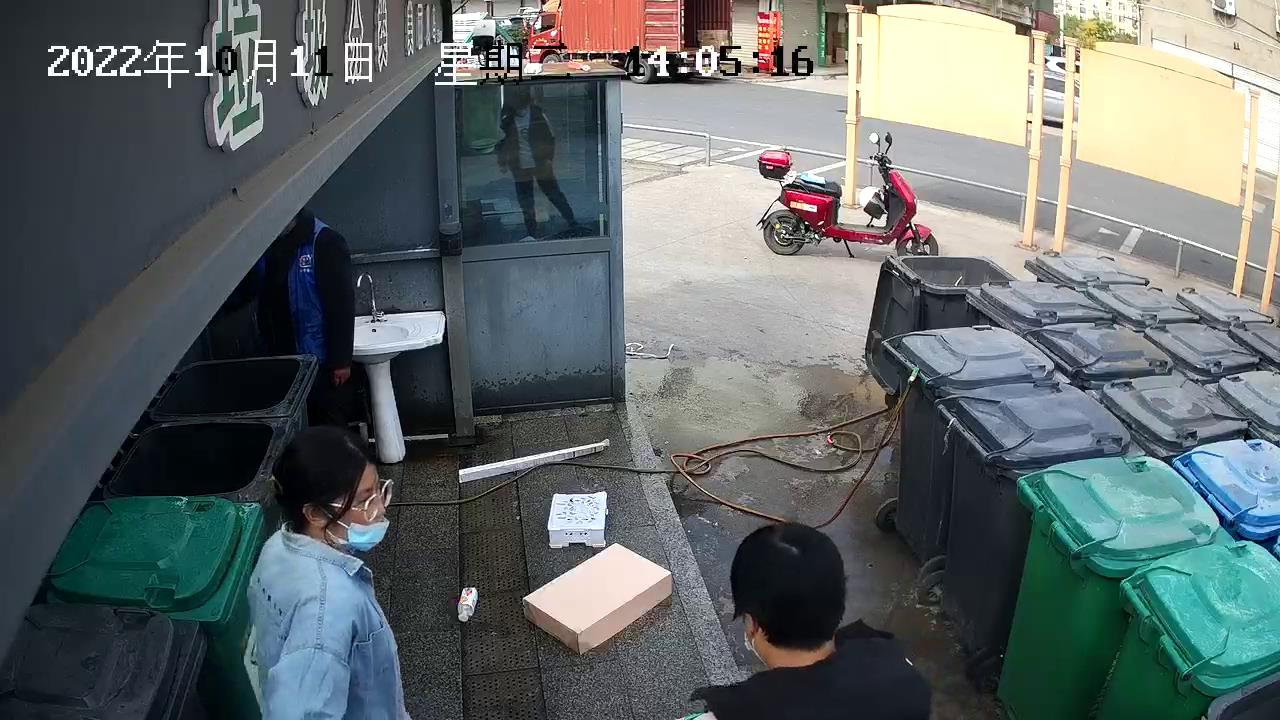person: (670, 521, 935, 720)
suliaozhipin: (544, 488, 610, 548), (454, 582, 478, 623)
worker: (243, 423, 412, 720)
zhizhipin: (518, 541, 674, 656)
